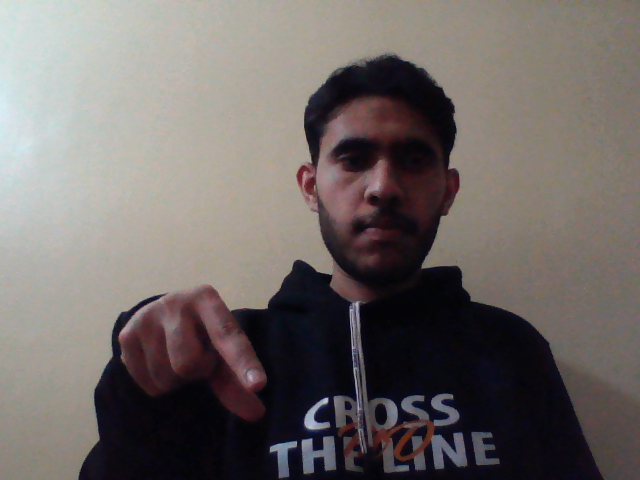Q: (103, 280, 277, 427)
